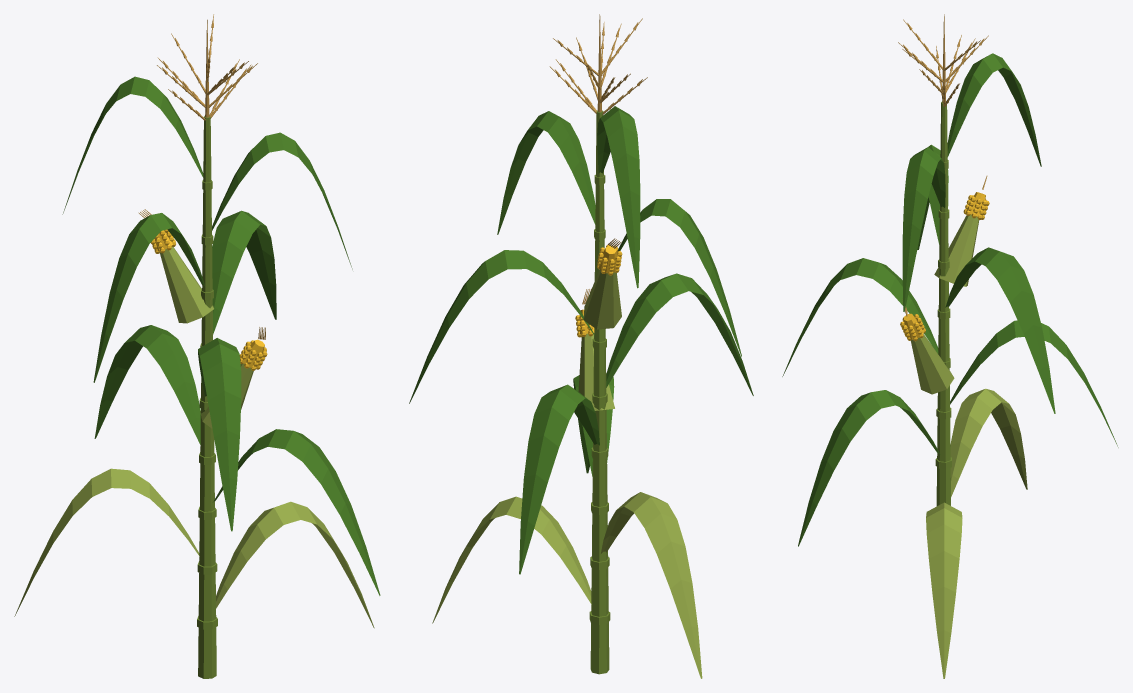
Rendered from corn.glb.
3 renders of one model, left to right at view 1: azimuth 30°, elevation 25°; view 2: azimuth 150°, elevation 25°; view 3: azimuth 270°, elevation 25°, orthographic. The views are drawn at different scales.
Visible parts, largest first — view 1: Corn_Leaves, Corn_Husks, Corn_Stalk, Corn_Tassel and silk, Corn_Kernels; view 2: Corn_Leaves, Corn_Husks, Corn_Stalk, Corn_Tassel and silk, Corn_Kernels; view 3: Corn_Leaves, Corn_Husks, Corn_Stalk, Corn_Tassel and silk, Corn_Kernels.
Part boxes in pixels (x1,y1,x2,y2): Corn_Leaves: (62, 76, 380, 595); Corn_Husks: (14, 247, 374, 628); Corn_Stalk: (197, 116, 217, 678); Corn_Tassel and silk: (138, 14, 265, 339); Corn_Kernels: (151, 229, 267, 370); Corn_Leaves: (409, 106, 753, 574); Corn_Husks: (432, 269, 702, 678); Corn_Stalk: (589, 110, 610, 674); Corn_Tassel and silk: (549, 14, 647, 304); Corn_Kernels: (575, 245, 622, 337); Corn_Leaves: (782, 53, 1118, 546); Corn_Husks: (911, 214, 1027, 678); Corn_Stalk: (935, 101, 951, 505); Corn_Tassel and silk: (898, 14, 988, 316); Corn_Kernels: (900, 192, 989, 341).
Bounding box in the file's own units: 1.36 × 2.7 × 1.38.
